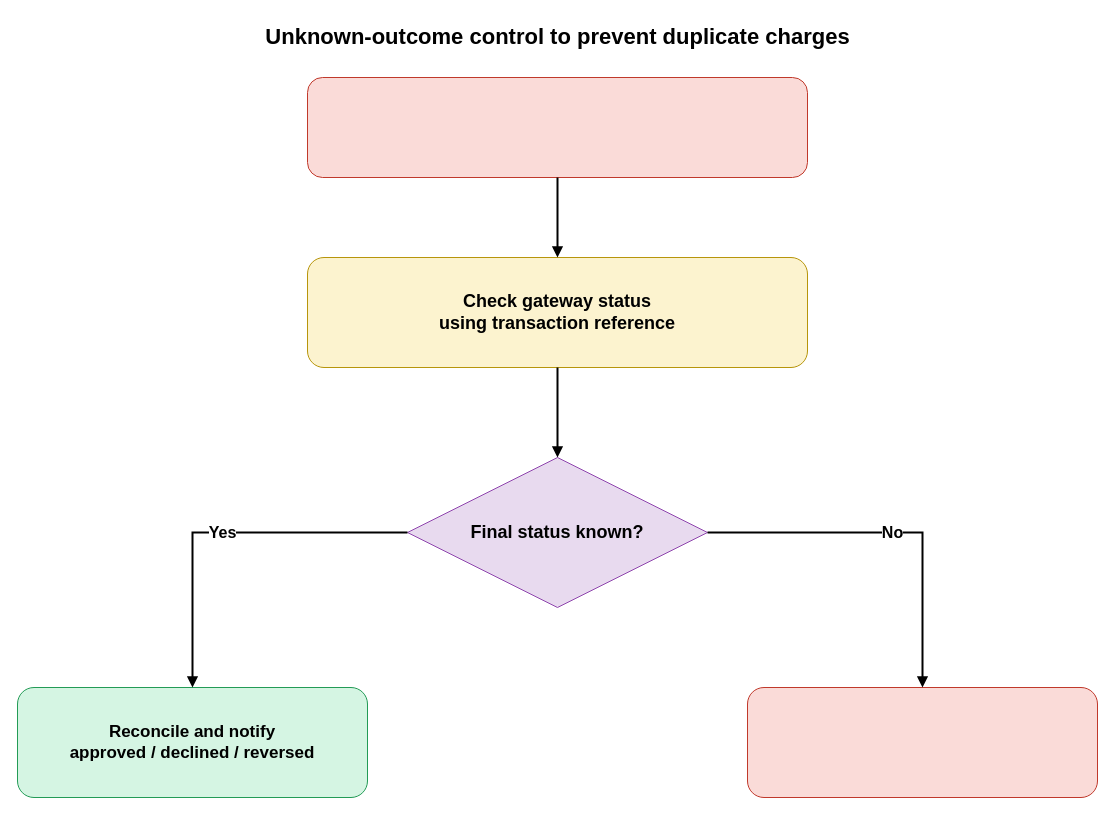
This 1115x815 diagram has some shape labels left out. Here are the shapes that lost their labels. From the top down, the centre of each, then its label:
the point at 557,127: Transaction outcome unknown
the point at 922,742: Do not blindly retry escalate, poll or investigate
